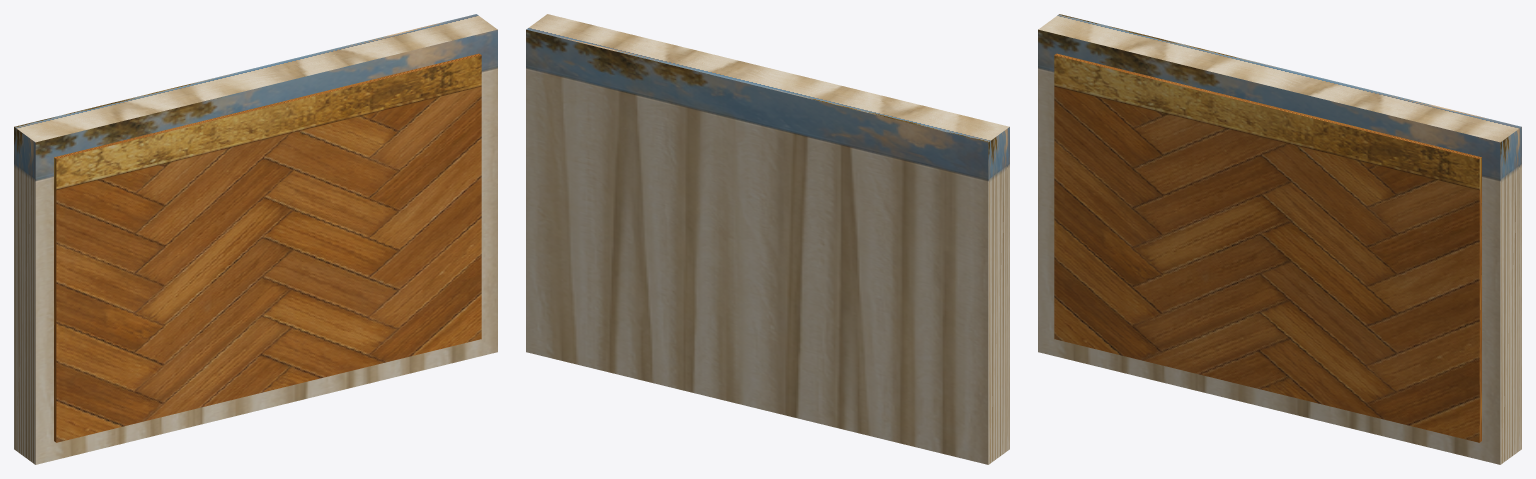
The model's file is framed-landscape.gltf.
The picture shows the model from 3 angles, left to right: view 1: azimuth 30°, elevation 25°; view 2: azimuth 150°, elevation 25°; view 3: azimuth 330°, elevation 25°; orthographic projection.
Visible parts, largest first — view 1: kit:0:furniture:landscape:, kit:0:furniture:gold:; view 2: kit:0:furniture:gold:; view 3: kit:0:furniture:landscape:, kit:0:furniture:gold:.
Boxes of the visible parts, x1,y1,x2,y2 form: kit:0:furniture:landscape:: (54,53,481,442); kit:0:furniture:gold:: (14,14,497,464); kit:0:furniture:gold:: (526,14,1009,464); kit:0:furniture:landscape:: (1054,53,1481,442); kit:0:furniture:gold:: (1038,14,1521,464).
Bounding box in the file's own units: 1.5 × 1 × 0.1335.
2 materials, 2 textured.
